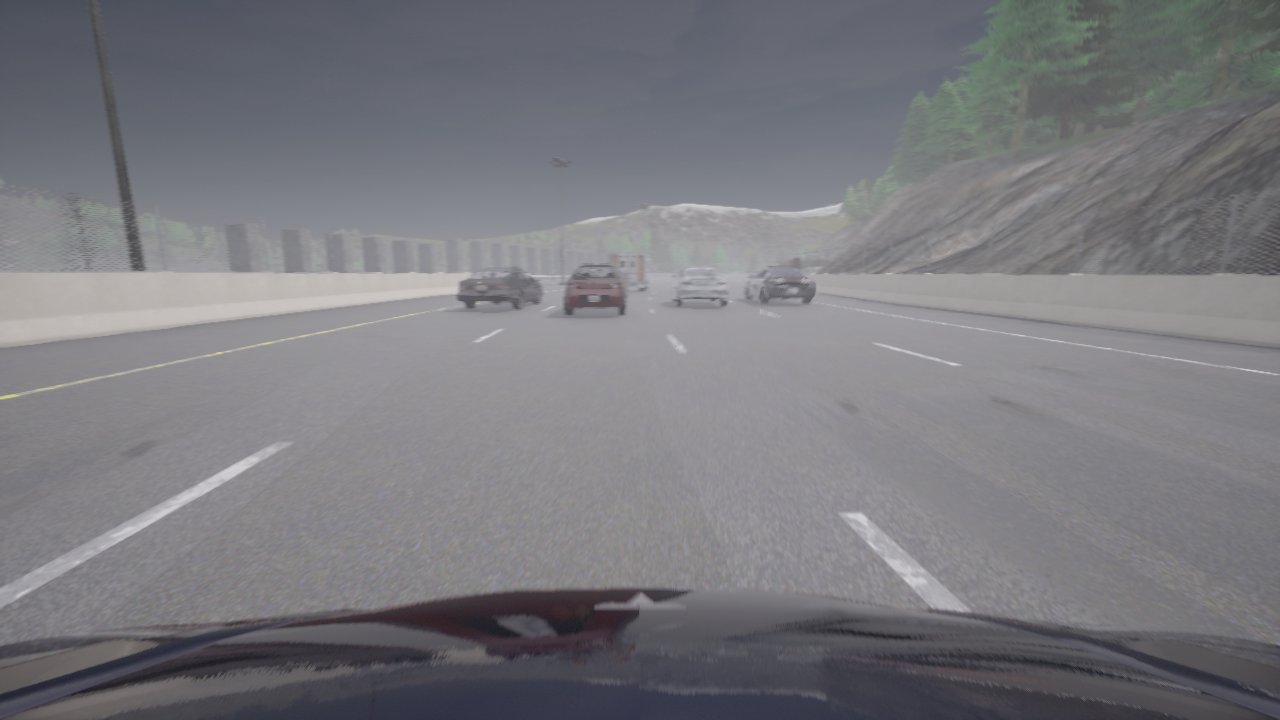cyclist: (0, 588, 1279, 719), (455, 267, 542, 309), (564, 264, 627, 315), (744, 265, 816, 304), (671, 267, 727, 306), (609, 253, 652, 291)
